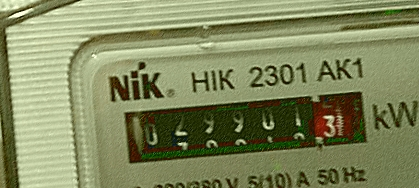0: (138, 117, 158, 145), (256, 101, 274, 131)
1: (287, 98, 302, 127)
2: (167, 108, 187, 137)
3: (317, 110, 336, 137)
9: (197, 106, 215, 134), (228, 105, 243, 133)
screen: (111, 79, 376, 172)
